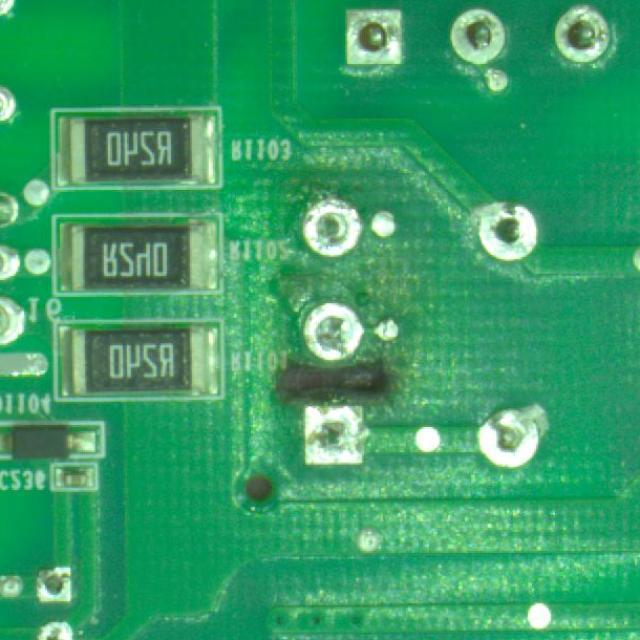oppostie_direction: (479, 405, 549, 467), (304, 302, 364, 361), (479, 202, 538, 261), (302, 199, 362, 257), (305, 406, 364, 464), (346, 10, 403, 64), (450, 9, 505, 64), (555, 5, 607, 62)
